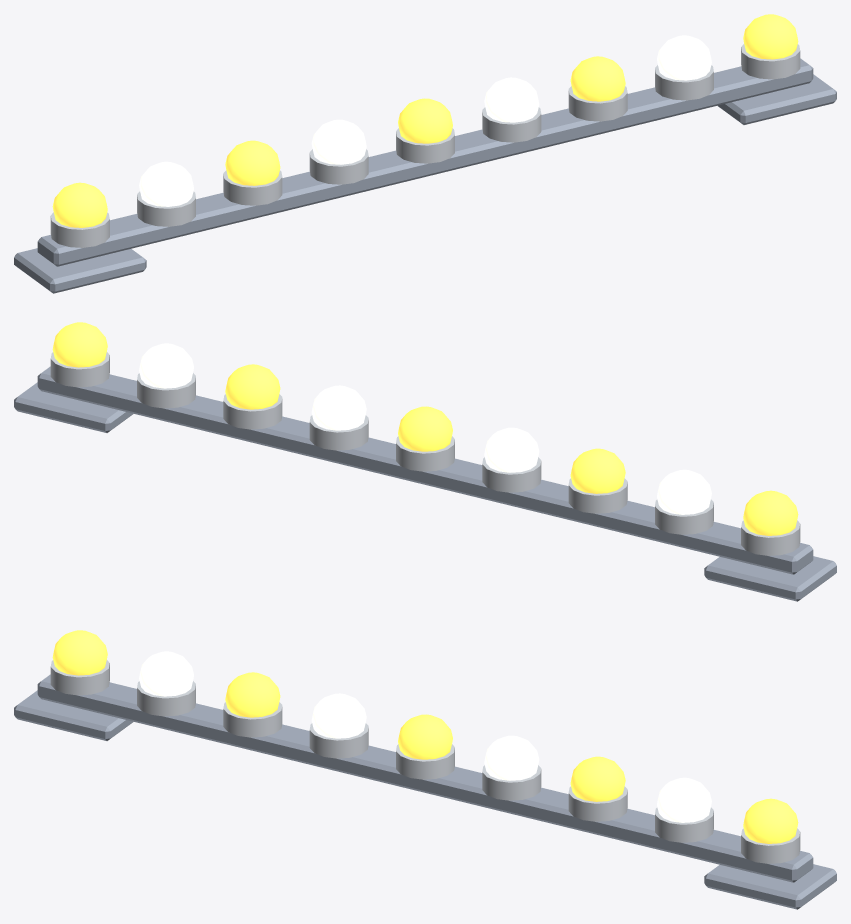
The model's file is roof_marker_small_lamps.glb.
3 renders of one model, top to bottom at view 1: azimuth 30°, elevation 25°; view 2: azimuth 150°, elevation 25°; view 3: azimuth 330°, elevation 25°, orthographic.
Parts seen in each view (by area): view 1: steel, chrome, lamp_amber, lamp_white; view 2: steel, chrome, lamp_amber, lamp_white; view 3: steel, chrome, lamp_amber, lamp_white.
Boxes of the visible parts, x1,y1,x2,y2 form: steel: (14,58,836,293); chrome: (50,44,800,247); lamp_amber: (52,14,798,227); lamp_white: (139,35,711,206); steel: (14,366,836,601); chrome: (50,352,800,555); lamp_amber: (52,322,798,535); lamp_white: (139,343,711,514); steel: (14,674,836,909); chrome: (50,660,800,863); lamp_amber: (52,630,798,843); lamp_white: (139,651,711,822).
Bounding box in the file's own units: 2.28 × 0.233 × 0.2.
